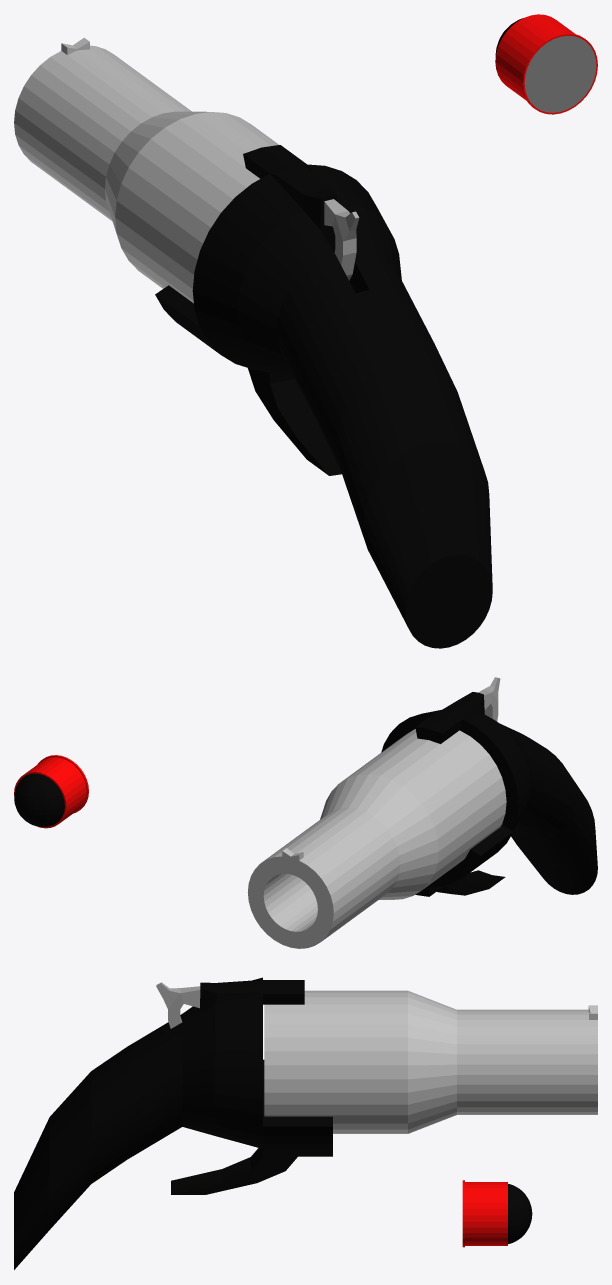
The model's file is pop_gun.glb.
The picture shows the model from 3 angles, top to bottom: view 1: azimuth 30°, elevation 25°; view 2: azimuth 150°, elevation 25°; view 3: azimuth 270°, elevation 25°; orthographic projection. The views are drawn at different scales.
Parts seen in each view (by area): view 1: Handle, GunBarrel, GunCell, Nab; view 2: GunBarrel, Handle, GunCell, Nab; view 3: GunBarrel, Handle, GunCell, Nab.
Part boxes in pixels (x1,y1,x2,y2): Handle: (155,145,492,648); GunBarrel: (14,37,278,303); GunCell: (495,14,597,114); Nab: (324,199,359,280); GunBarrel: (248,729,506,948); Handle: (381,692,597,896); GunCell: (14,755,88,828); Nab: (478,677,500,721); GunBarrel: (264,990,597,1133); Handle: (14,977,332,1269); GunCell: (462,1180,532,1247); Nab: (156,982,200,1028).
Bounding box in the file's own units: 6.66 × 4.36 × 8.14.
